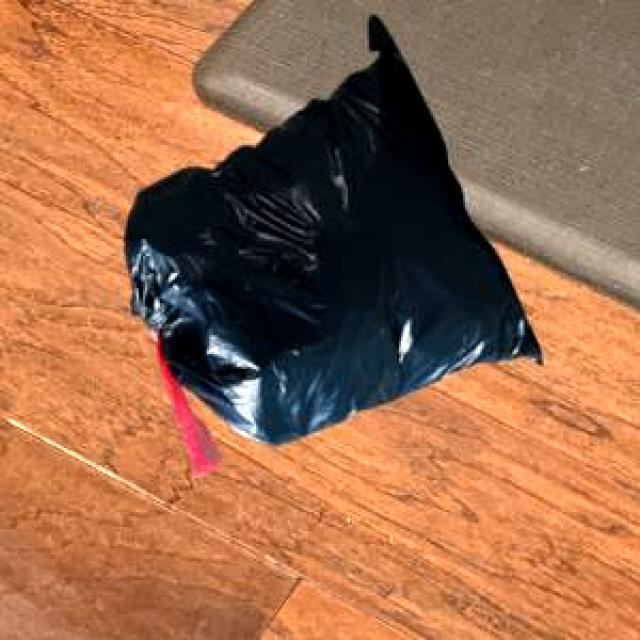Garbage_Bag: (122, 11, 538, 472)
